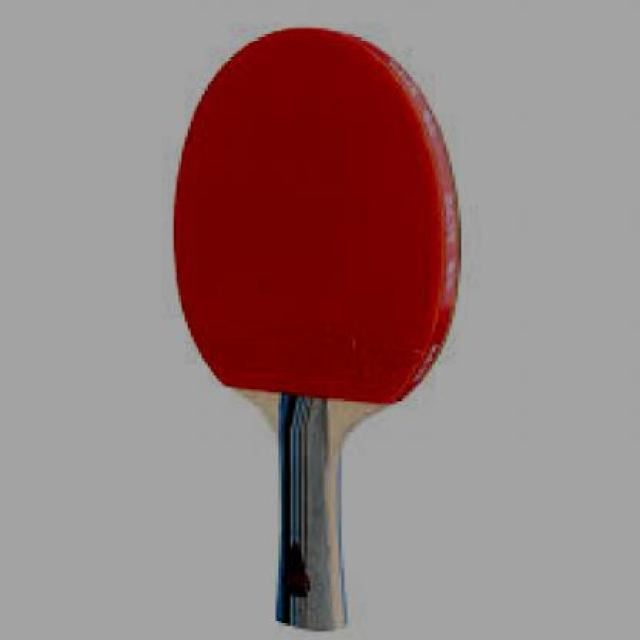table_tennis_racket: (171, 23, 469, 442)
